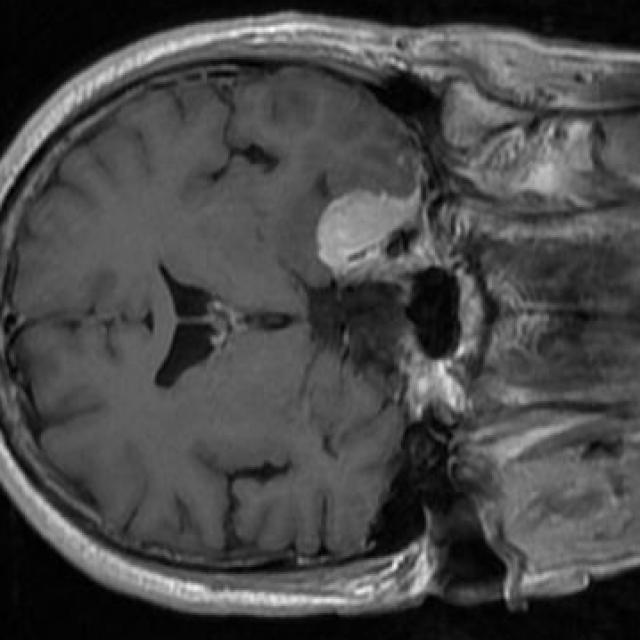meningioma: (316, 187, 424, 278)
